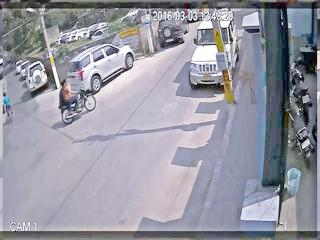Car: (67, 43, 136, 94), (193, 23, 235, 88), (157, 19, 187, 47), (23, 60, 49, 92), (60, 28, 88, 43), (118, 10, 143, 26), (87, 22, 109, 39), (188, 8, 207, 22), (17, 60, 31, 78)
Motor: (286, 79, 315, 162), (59, 82, 95, 119), (289, 66, 311, 114)
